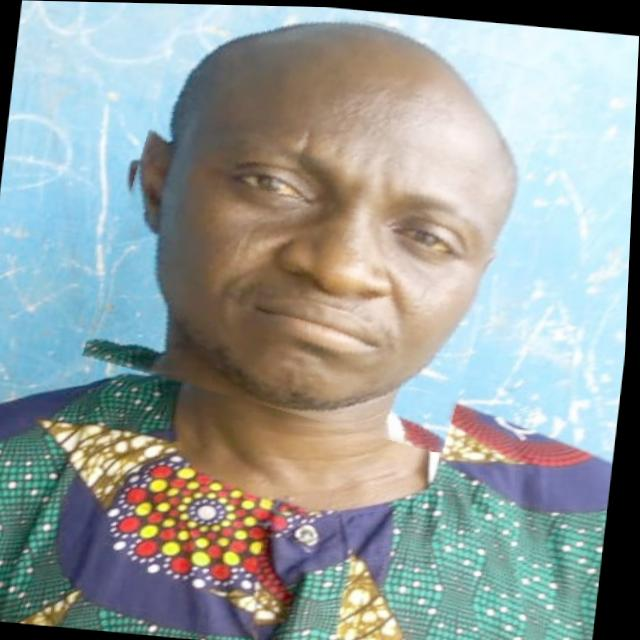sad: (94, 2, 543, 439)
